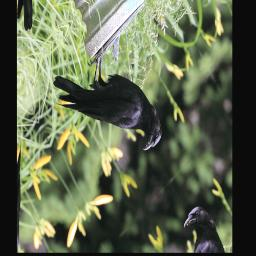Crow: (46, 18, 168, 200)
